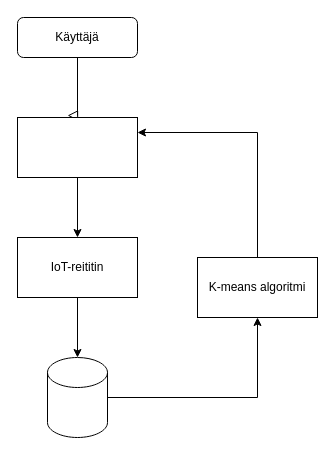
Some shapes in this 335 by 455 pixel diagram are drawn without their labels. The centre of each missing label's shape, as x and y in pixels:
Arduino - Lähetin - Vastaanotin - Kiihtyyvysanturi: (77,147)
MySql Tietokanta: (77,397)
